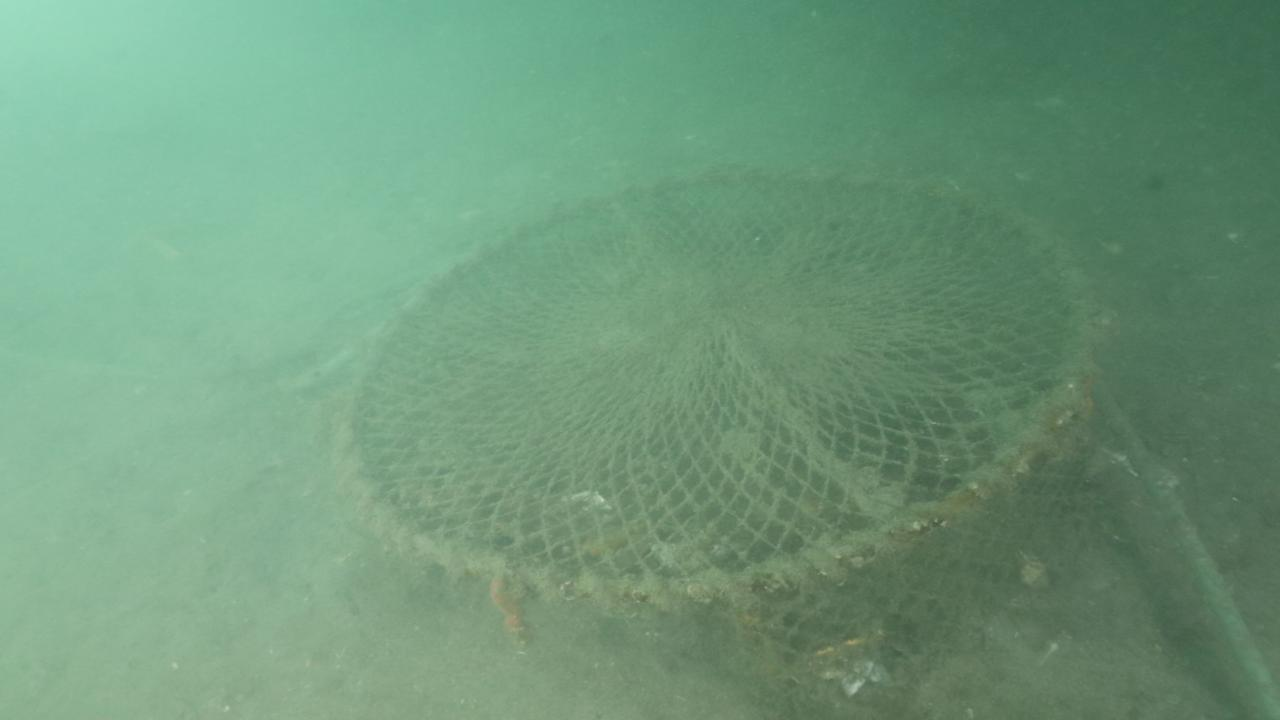circular fish trap: (325, 159, 1098, 681)
